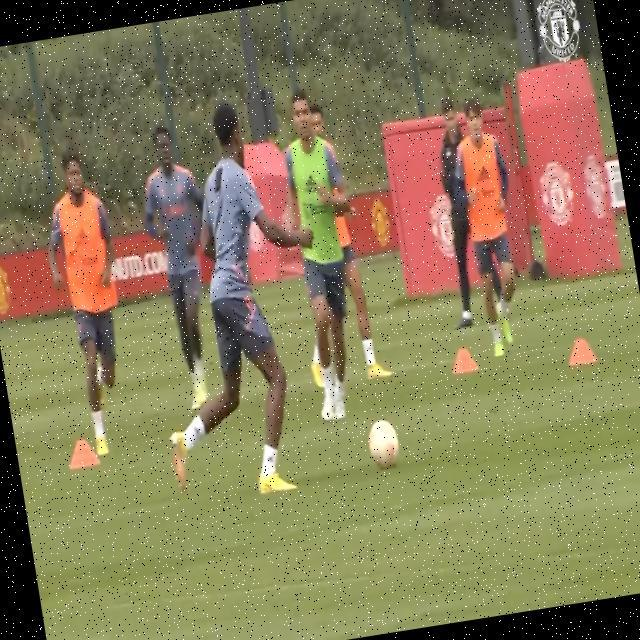Adidas: (475, 161, 493, 186), (302, 172, 320, 196)
